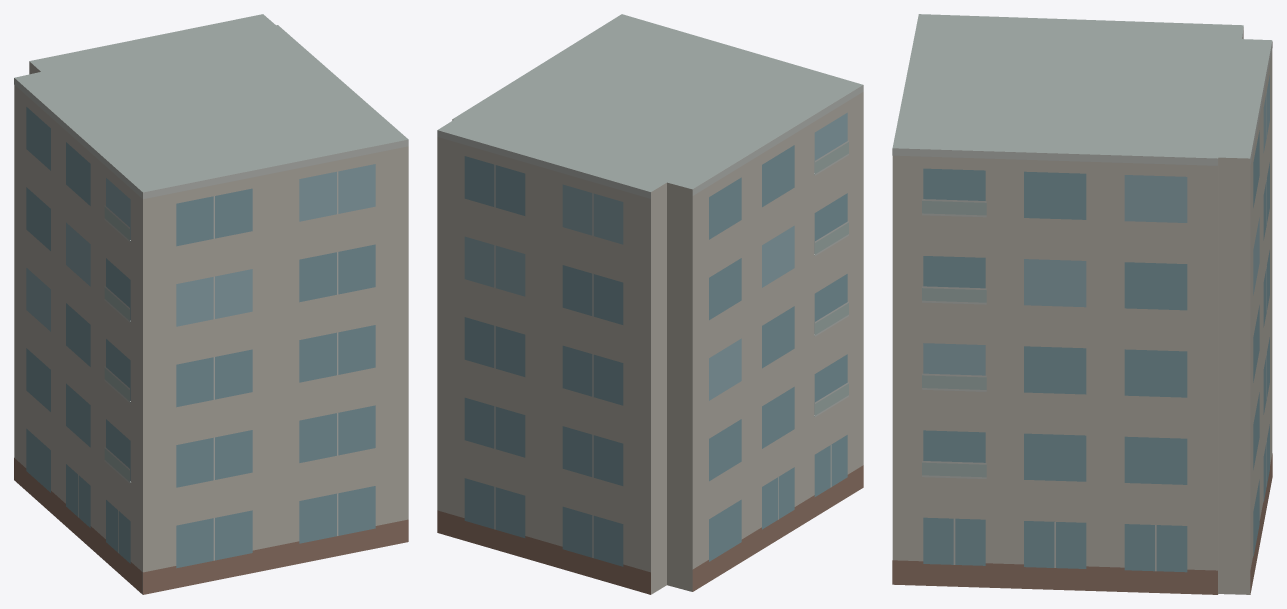
The model's file is survey-upis-32921270.glb.
3 renders of one model, left to right at view 1: azimuth 30°, elevation 25°; view 2: azimuth 150°, elevation 25°; view 3: azimuth 270°, elevation 25°, orthographic. The views are drawn at different scales.
Visible parts, largest first — view 1: survey-upis-32921270.tmp; view 2: survey-upis-32921270.tmp; view 3: survey-upis-32921270.tmp.
Boxes of the visible parts, <box> form: survey-upis-32921270.tmp: <box>14,14,408,594</box>; survey-upis-32921270.tmp: <box>437,14,863,594</box>; survey-upis-32921270.tmp: <box>892,14,1272,594</box>.
Bounding box in the file's own units: 10.3 × 14.5 × 11.46.
